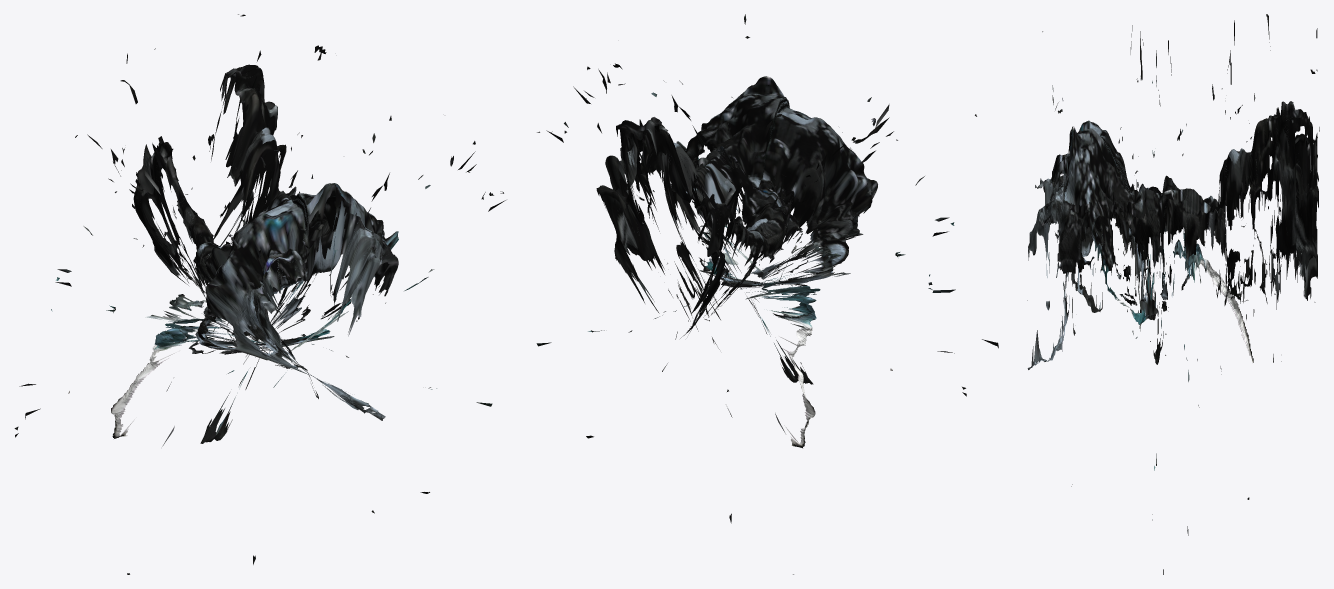
The picture shows the model from 3 angles, left to right: view 1: azimuth 30°, elevation 25°; view 2: azimuth 150°, elevation 25°; view 3: azimuth 270°, elevation 25°; orthographic projection. The views are drawn at different scales.
Parts seen in each view (by area): view 1: geometry_0; view 2: geometry_0; view 3: geometry_0.
Boxes of the visible parts, box(x1,y1,x2,y2) form: geometry_0: box(14, 14, 505, 574); geometry_0: box(536, 14, 998, 574); geometry_0: box(1027, 14, 1319, 574).
Bounding box in the file's own units: 1.92 × 1.91 × 1.01.
Materials: 1 (1 with a texture image).
